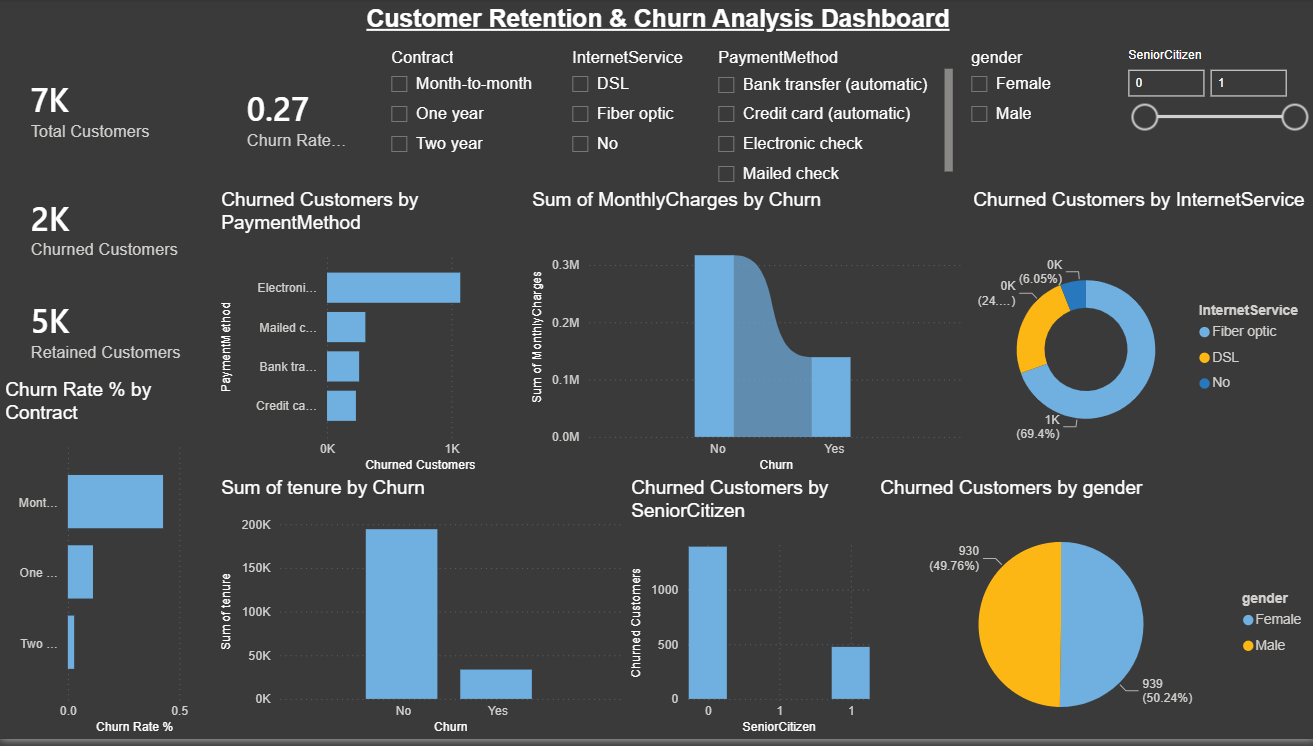

The dashboard page shown, as its layout file describes it:
{"tool":"powerbi","page":{"name":"Page 1","canvas":[1280,720],"ordinal":0},"visuals":[{"type":"clusteredBarChart","fields":{"Category":["Cleaned_Telco-Customer-Chur.Contract"],"Y":["Cleaned_Telco-Customer-Chur.Churn Rate %"]},"box":[0,369.6,210.1,350.2],"z":0},{"type":"donutChart","fields":{"Category":["Cleaned_Telco-Customer-Chur.InternetService"],"Y":["Cleaned_Telco-Customer-Chur.Churned Customers"]},"box":[941.5,184.8,338.5,280.1],"z":1000},{"type":"barChart","fields":{"Category":["Cleaned_Telco-Customer-Chur.PaymentMethod"],"Y":["Cleaned_Telco-Customer-Chur.Churned Customers"]},"box":[210.1,184.8,302.5,280.1],"z":2000},{"type":"pieChart","fields":{"Category":["Cleaned_Telco-Customer-Chur.gender"],"Y":["Cleaned_Telco-Customer-Chur.Churned Customers"]},"box":[851.1,464.9,428.9,254.8],"z":3000},{"type":"columnChart","fields":{"Category":["Cleaned_Telco-Customer-Chur.SeniorCitizen"],"Y":["Cleaned_Telco-Customer-Chur.Churned Customers"]},"box":[608.9,464.9,242.2,254.8],"z":4000},{"type":"ribbonChart","fields":{"Category":["Cleaned_Telco-Customer-Chur.Churn"],"Y":["Sum(Cleaned_Telco-Customer-Chur.MonthlyCharges)"]},"box":[512.6,184.8,428.9,280.1],"z":5000},{"type":"columnChart","fields":{"Category":["Cleaned_Telco-Customer-Chur.Churn"],"Y":["Sum(Cleaned_Telco-Customer-Chur.tenure)"]},"box":[210.1,464.9,398.8,254.8],"z":6000},{"type":"slicer","fields":{"Values":["Cleaned_Telco-Customer-Chur.gender"]},"box":[931.8,42.8,152.7,142],"z":7000},{"type":"slicer","fields":{"Values":["Cleaned_Telco-Customer-Chur.Contract"]},"box":[367.7,42.8,176,142],"z":8000},{"type":"slicer","fields":{"Values":["Cleaned_Telco-Customer-Chur.InternetService"]},"box":[543.7,42.8,142,142],"z":9000},{"type":"slicer","fields":{"Values":["Cleaned_Telco-Customer-Chur.PaymentMethod"]},"box":[685.7,42.8,246.1,142],"z":10000},{"type":"textbox","box":[0,0,1280,42.8],"z":11000},{"type":"slicer","fields":{"Values":["Cleaned_Telco-Customer-Chur.SeniorCitizen"]},"box":[1084.5,42.8,195.5,142],"z":12000},{"type":"cardVisual","fields":{"Data":["Cleaned_Telco-Customer-Chur.Total Customers"]},"box":[0,42.8,210.1,125.5],"z":13000},{"type":"cardVisual","fields":{"Data":["Cleaned_Telco-Customer-Chur.Churned Customers"]},"box":[0,168.3,210.1,104.1],"z":13001},{"type":"cardVisual","fields":{"Data":["Cleaned_Telco-Customer-Chur.Retained Customers"]},"box":[0,272.3,210.1,97.3],"z":13002},{"type":"cardVisual","fields":{"Data":["Cleaned_Telco-Customer-Chur.Churn Rate %"]},"box":[210.1,42.8,157.6,142],"z":13003}]}

Visuals, with their boxes in screenshot pixels (x1, y1, x2, y2), scaled from the page's 1280x720 canvas onto the 1313x746 screenshot:
clusteredBarChart - Cleaned_Telco-Customer-Chur.Contract x Cleaned_Telco-Customer-Chur.Churn Rate %: (x1=0, y1=383, x2=216, y2=745)
donutChart - Cleaned_Telco-Customer-Chur.InternetService x Cleaned_Telco-Customer-Chur.Churned Customers: (x1=966, y1=191, x2=1312, y2=482)
barChart - Cleaned_Telco-Customer-Chur.PaymentMethod x Cleaned_Telco-Customer-Chur.Churned Customers: (x1=216, y1=191, x2=526, y2=482)
pieChart - Cleaned_Telco-Customer-Chur.gender x Cleaned_Telco-Customer-Chur.Churned Customers: (x1=873, y1=482, x2=1312, y2=745)
columnChart - Cleaned_Telco-Customer-Chur.SeniorCitizen x Cleaned_Telco-Customer-Chur.Churned Customers: (x1=625, y1=482, x2=873, y2=745)
ribbonChart - Cleaned_Telco-Customer-Chur.Churn x Sum(Cleaned_Telco-Customer-Chur.MonthlyCharges): (x1=526, y1=191, x2=966, y2=482)
columnChart - Cleaned_Telco-Customer-Chur.Churn x Sum(Cleaned_Telco-Customer-Chur.tenure): (x1=216, y1=482, x2=625, y2=745)
slicer - Cleaned_Telco-Customer-Chur.gender: (x1=956, y1=44, x2=1112, y2=191)
slicer - Cleaned_Telco-Customer-Chur.Contract: (x1=377, y1=44, x2=558, y2=191)
slicer - Cleaned_Telco-Customer-Chur.InternetService: (x1=558, y1=44, x2=703, y2=191)
slicer - Cleaned_Telco-Customer-Chur.PaymentMethod: (x1=703, y1=44, x2=956, y2=191)
textbox: (x1=0, y1=0, x2=1312, y2=44)
slicer - Cleaned_Telco-Customer-Chur.SeniorCitizen: (x1=1112, y1=44, x2=1312, y2=191)
cardVisual - Cleaned_Telco-Customer-Chur.Total Customers: (x1=0, y1=44, x2=216, y2=174)
cardVisual - Cleaned_Telco-Customer-Chur.Churned Customers: (x1=0, y1=174, x2=216, y2=282)
cardVisual - Cleaned_Telco-Customer-Chur.Retained Customers: (x1=0, y1=282, x2=216, y2=383)
cardVisual - Cleaned_Telco-Customer-Chur.Churn Rate %: (x1=216, y1=44, x2=377, y2=191)
